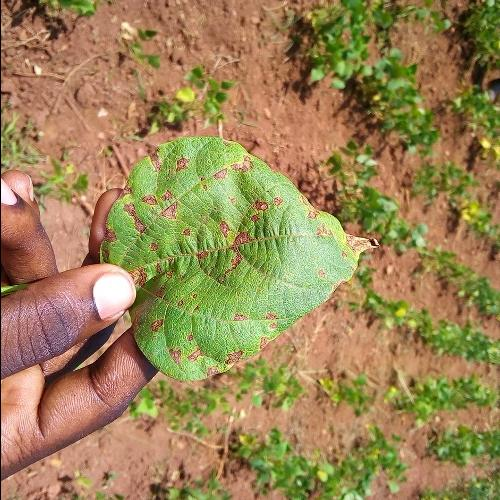hawar: (103, 164, 293, 266), (120, 246, 204, 378), (293, 196, 385, 262), (218, 296, 286, 376)
